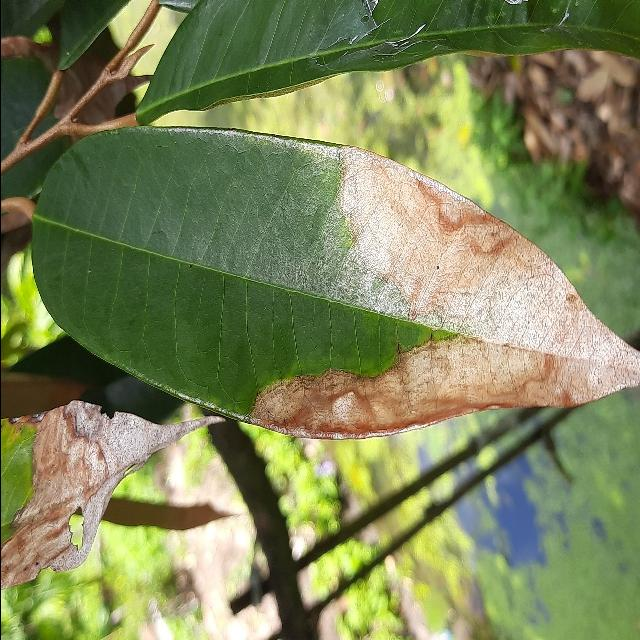Leaf Blight: (19, 117, 640, 445)
